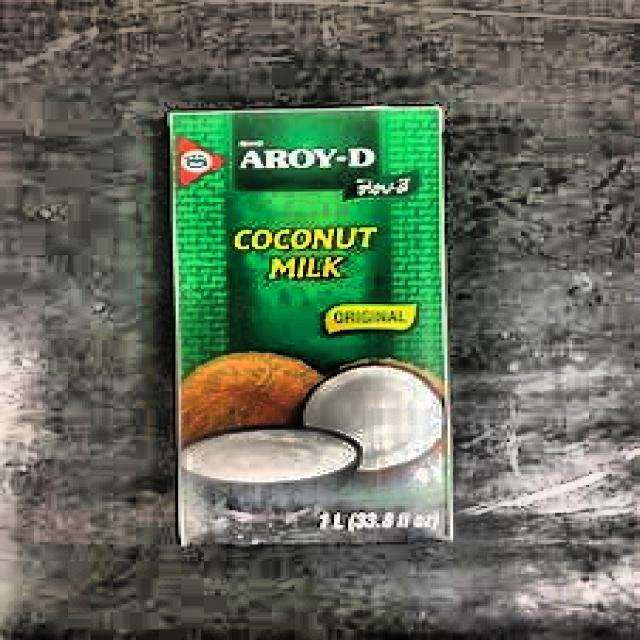cardboard: (164, 102, 453, 547)
